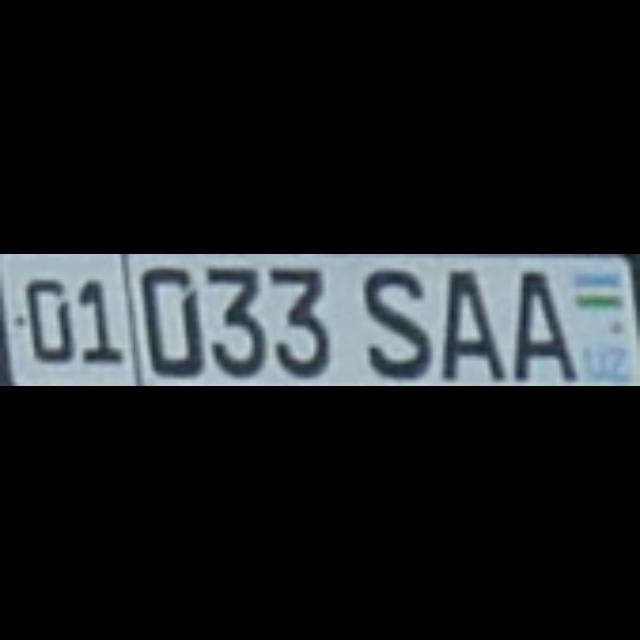0: (137, 265, 201, 375), (22, 276, 72, 360)
1: (76, 276, 120, 360)
3: (264, 261, 326, 375), (204, 261, 262, 375)
A: (436, 265, 500, 379), (508, 269, 572, 379)
S: (360, 265, 428, 375)
